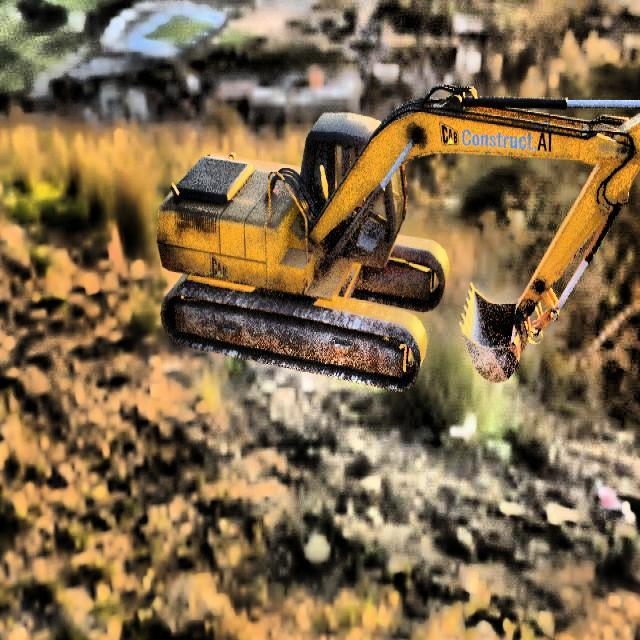excavator: (156, 83, 640, 393)
